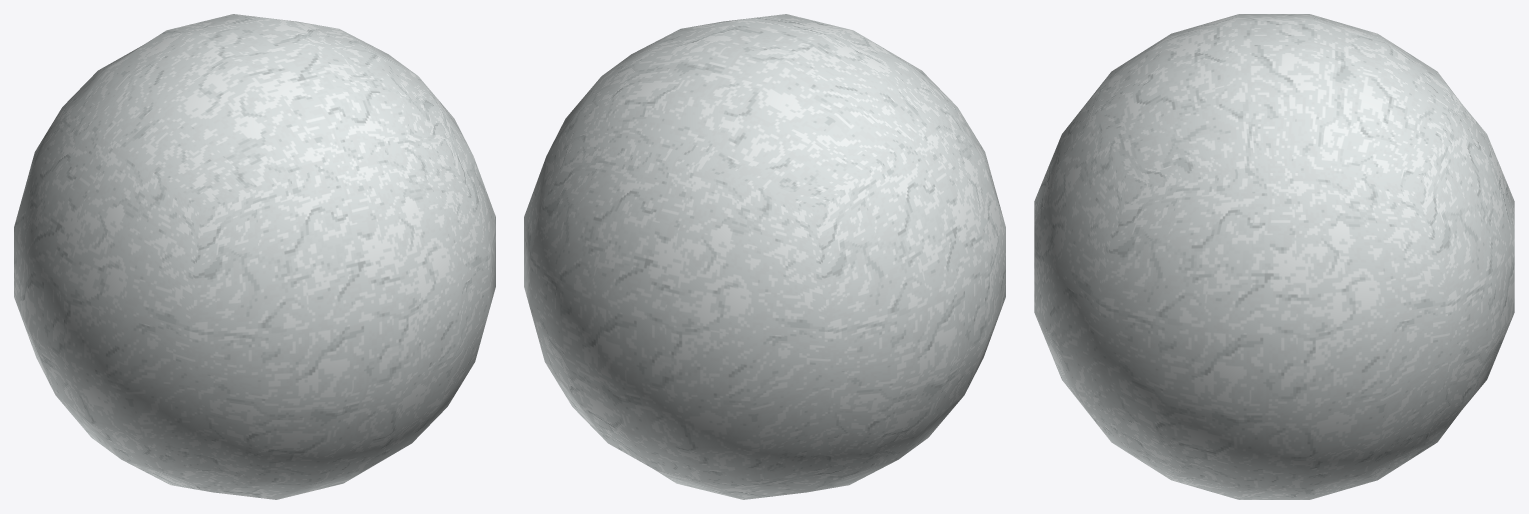
Rendered from blanco.glb.
3 views of the same model, side by side, from view 1: azimuth 30°, elevation 25°; view 2: azimuth 150°, elevation 25°; view 3: azimuth 270°, elevation 25° (orthographic).
Parts seen in each view (by area): view 1: Asset3DLoader.sceneRoot; view 2: Asset3DLoader.sceneRoot; view 3: Asset3DLoader.sceneRoot.
Boxes of the visible parts, x1=… form: Asset3DLoader.sceneRoot: x1=14, y1=14, x2=495, y2=499; Asset3DLoader.sceneRoot: x1=524, y1=14, x2=1005, y2=499; Asset3DLoader.sceneRoot: x1=1034, y1=14, x2=1514, y2=499.
Size of the model in its own units: 3.36 by 3.36 by 3.36.
Materials: 1 (1 with a texture image).
